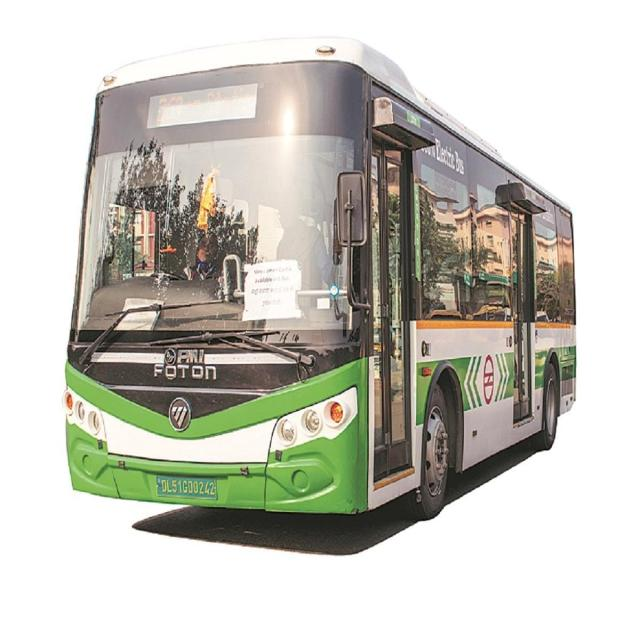bus: (61, 40, 576, 518)
